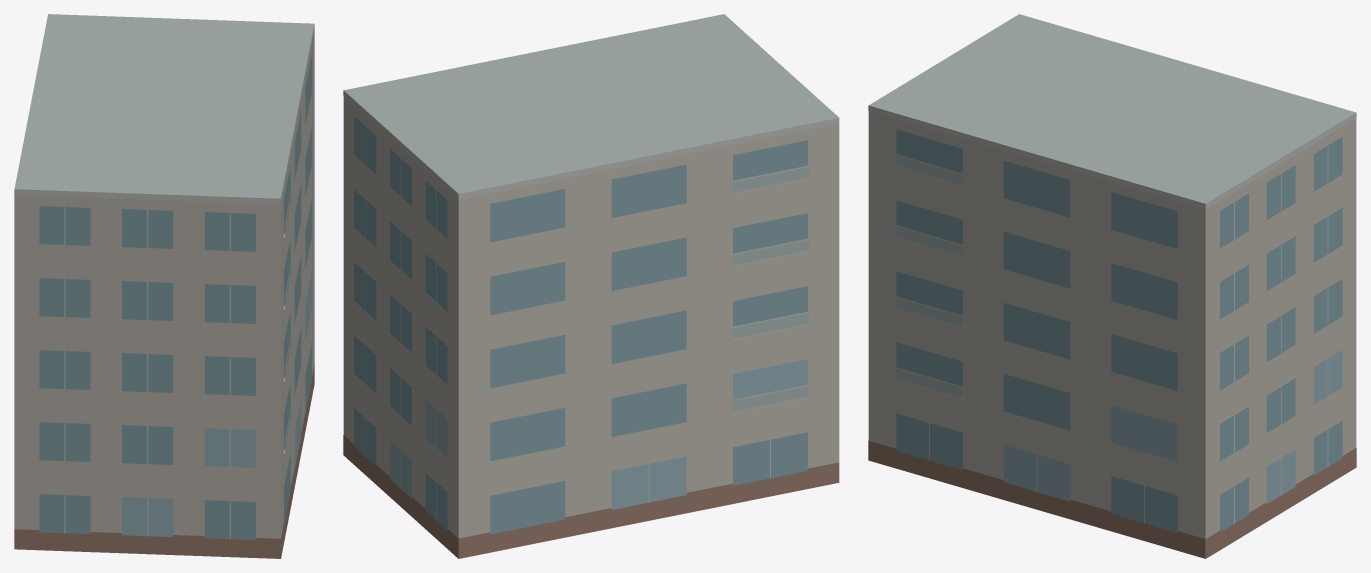
Rendered from survey-upis-32606483.glb.
The picture shows the model from 3 angles, left to right: view 1: azimuth 30°, elevation 25°; view 2: azimuth 150°, elevation 25°; view 3: azimuth 270°, elevation 25°; orthographic projection. The views are drawn at different scales.
Parts seen in each view (by area): view 1: survey-upis-32606483.tmp; view 2: survey-upis-32606483.tmp; view 3: survey-upis-32606483.tmp.
Part boxes in pixels (x1,y1,x2,y2): survey-upis-32606483.tmp: [14, 14, 314, 558]; survey-upis-32606483.tmp: [343, 14, 839, 558]; survey-upis-32606483.tmp: [868, 14, 1356, 558].
Size of the model in its own units: 17.5 by 15.25 by 19.
